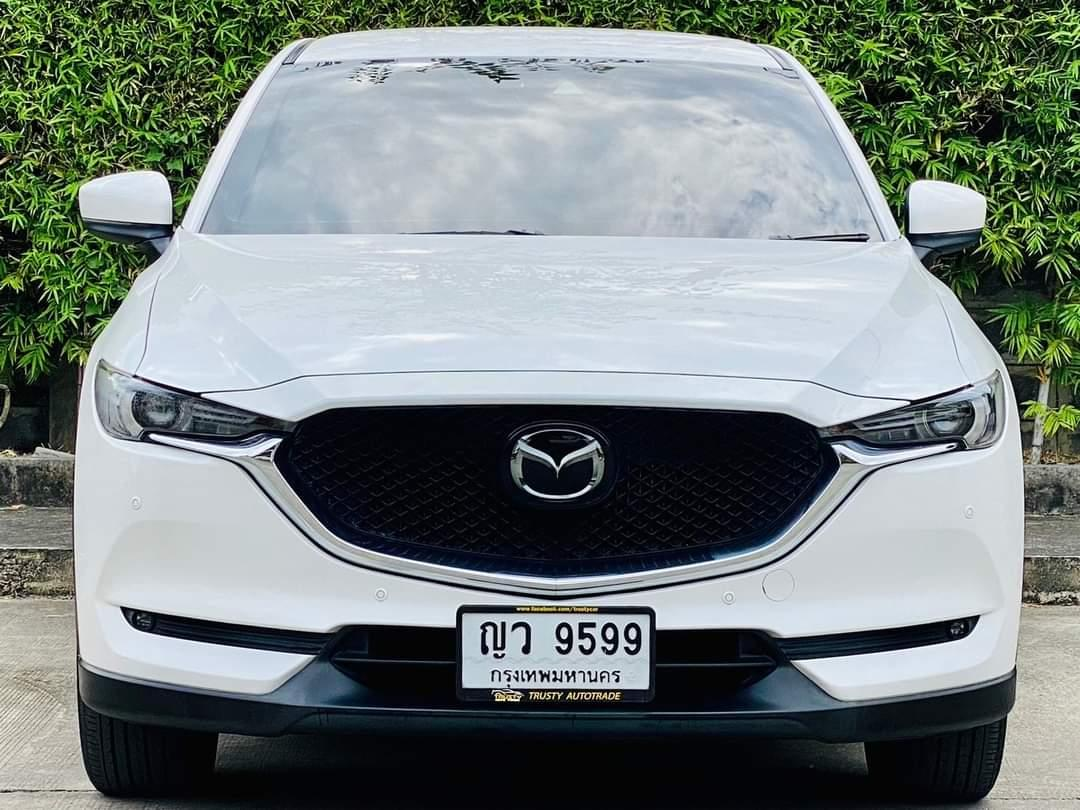license-plate: (456, 602, 657, 703)
